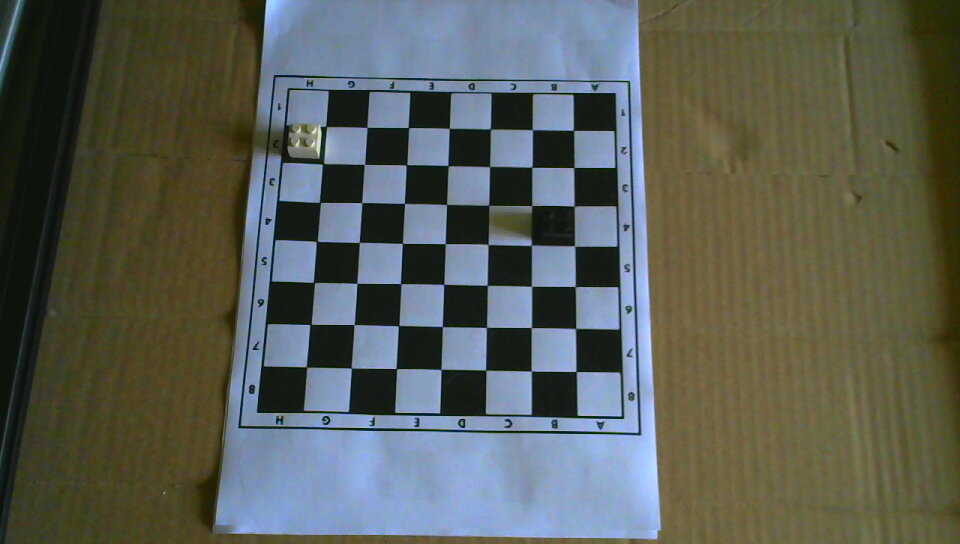bp: (538, 206, 574, 243)
wp: (287, 121, 323, 160)
